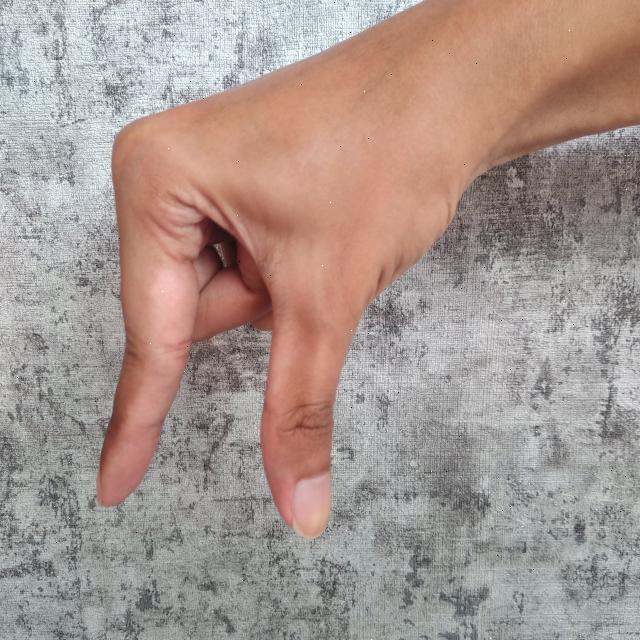Q: (85, 0, 640, 553)
